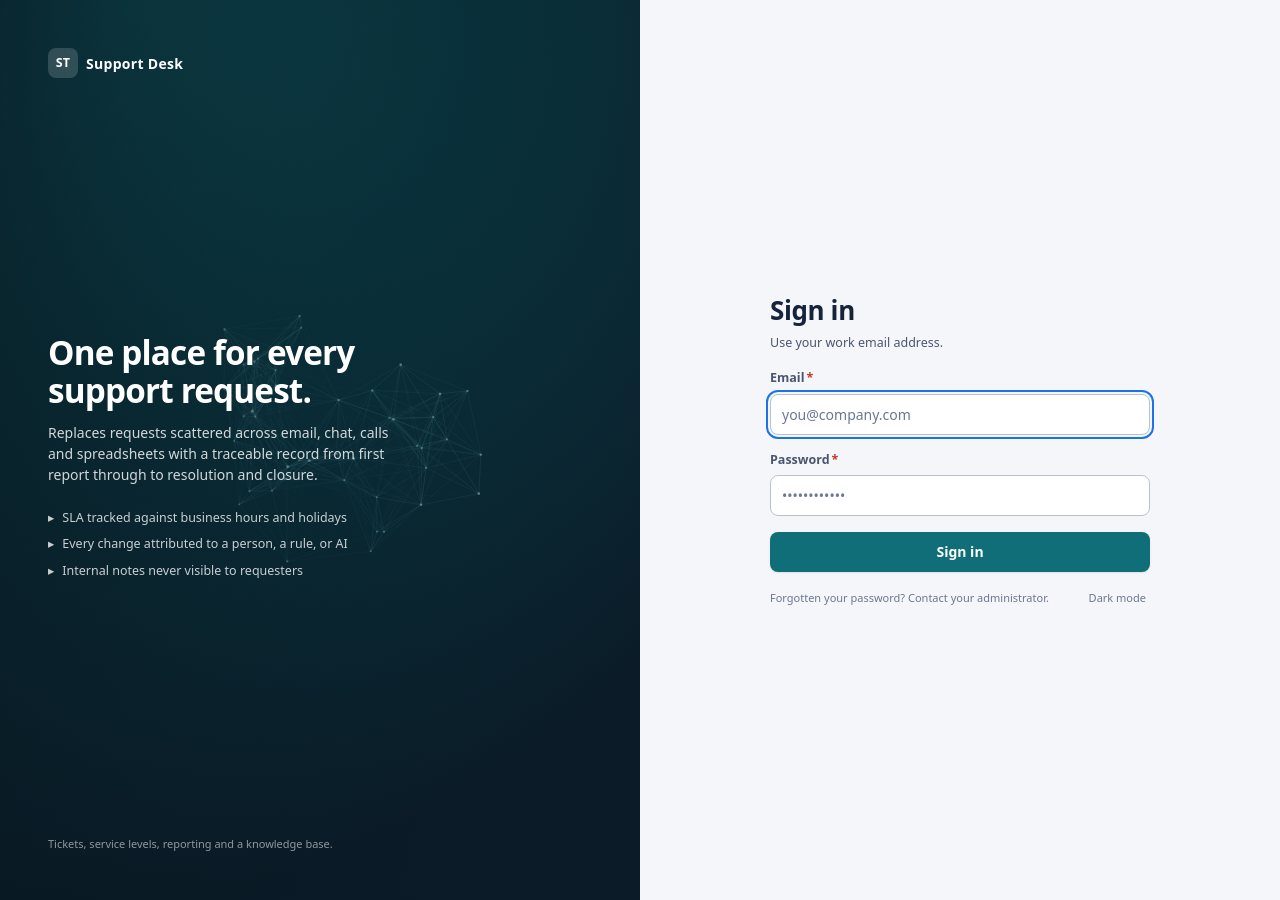
LoginPage › explains a lockout rather than reporting it as a wrong password
In the field labelled "Email*": x=960, y=414 [770,394,1150,435], type "locked@itg.test"
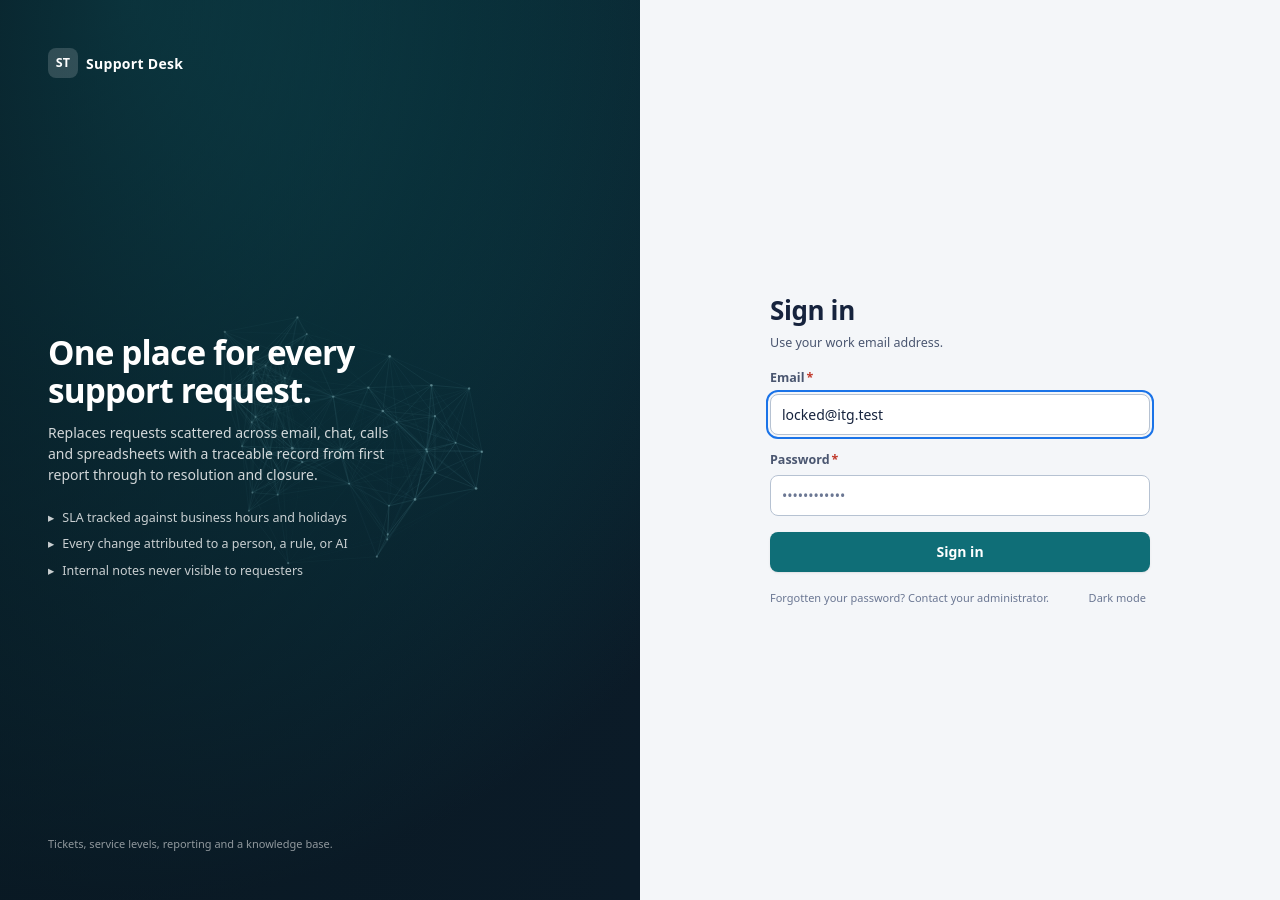
In the password field labelled "Password*": x=960, y=496 [770,475,1150,516], type "AnyPassword1!"
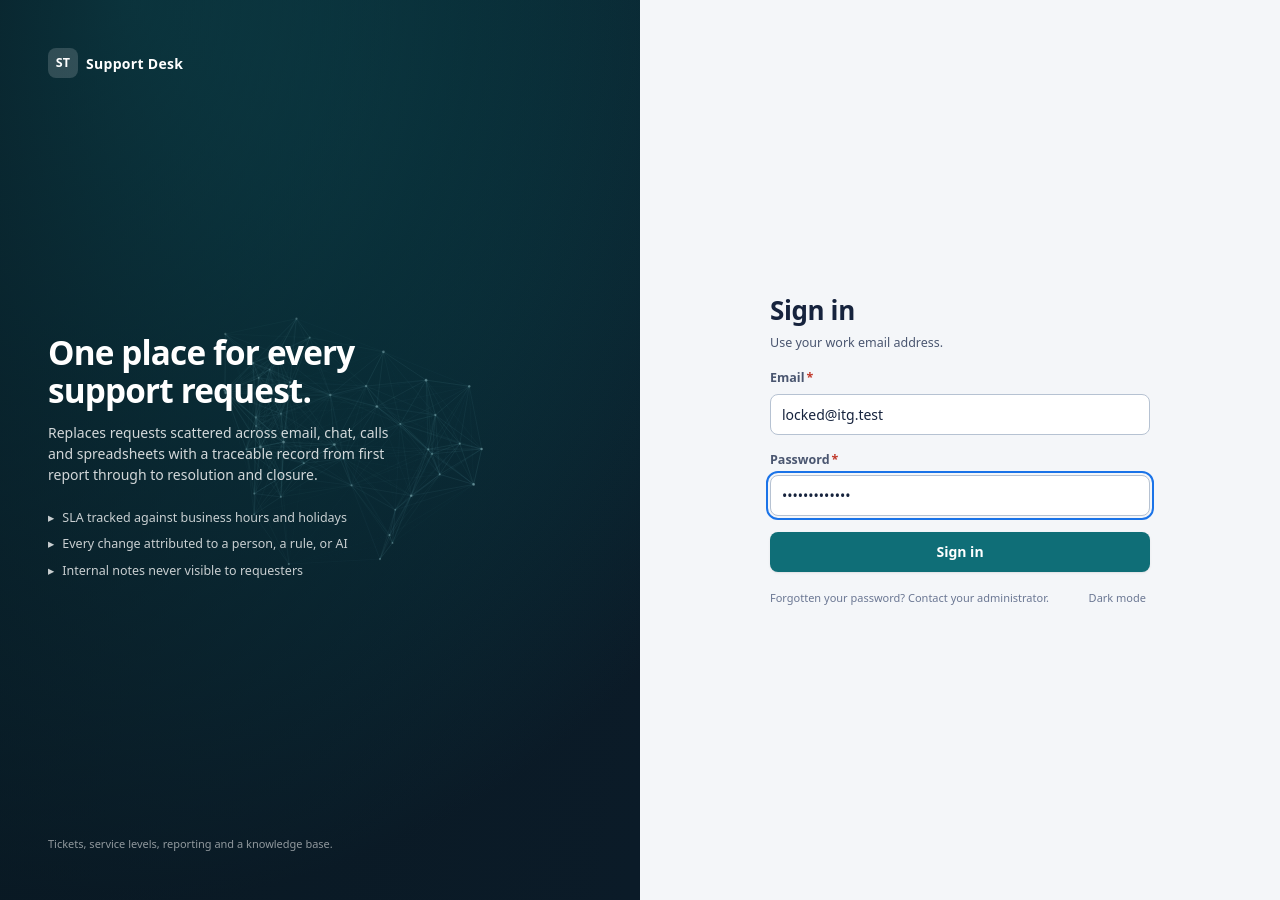
Click the button "Sign in": x=960, y=552 [770,532,1150,572]
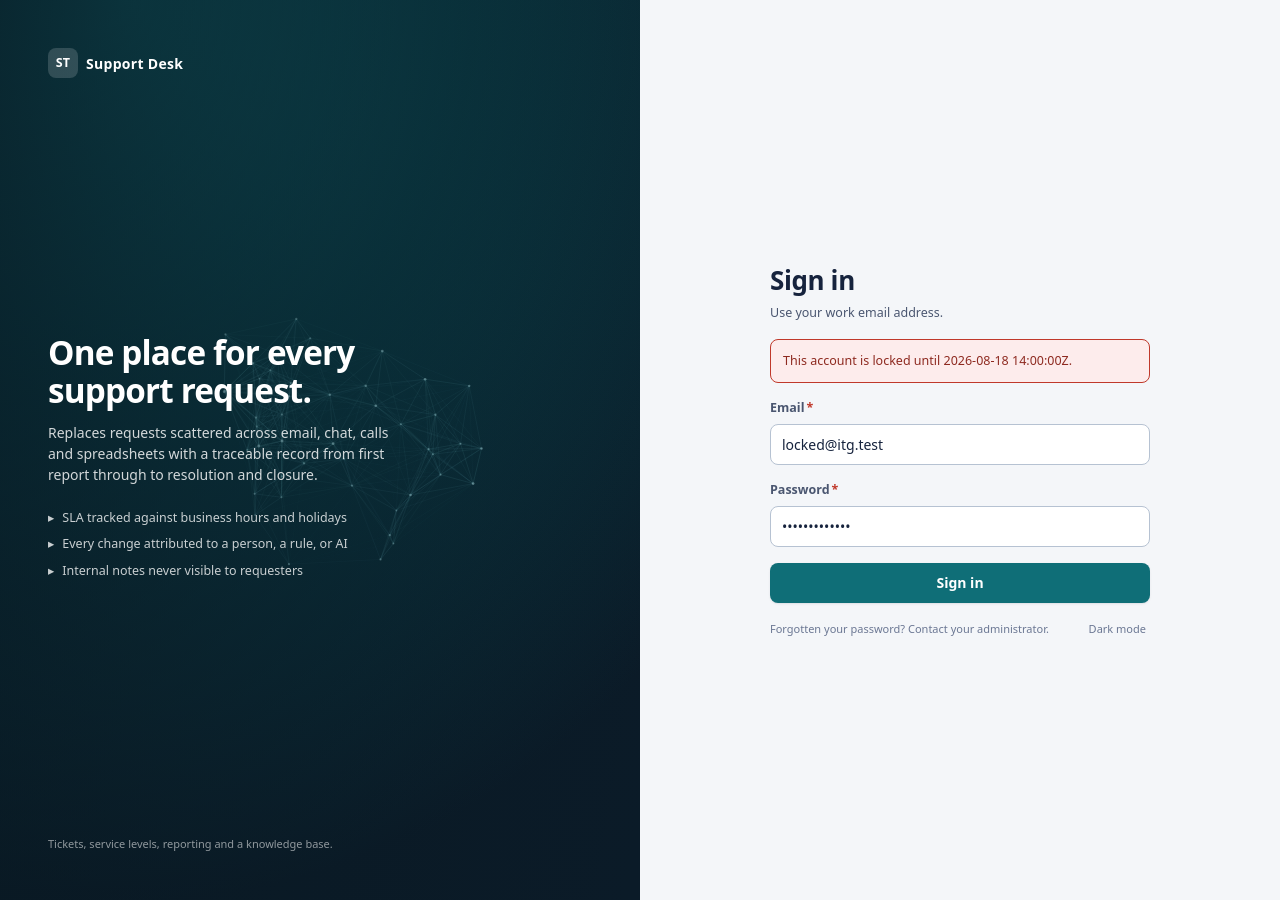
Expected: the message shows "locked", [783,352,1072,368]
